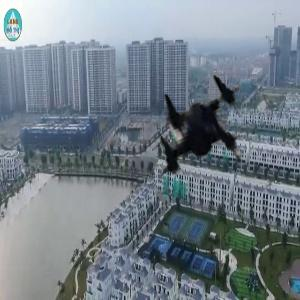drone: (125, 61, 291, 227)
